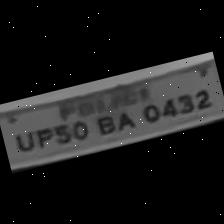0: (66, 113, 92, 142), (136, 98, 162, 125)
2: (188, 83, 214, 111)
3: (168, 88, 196, 116)
4: (154, 94, 179, 121)
5: (47, 119, 72, 146)
A: (110, 105, 139, 134)
B: (88, 110, 118, 138)
P: (30, 122, 54, 150)
U: (7, 124, 37, 154)
